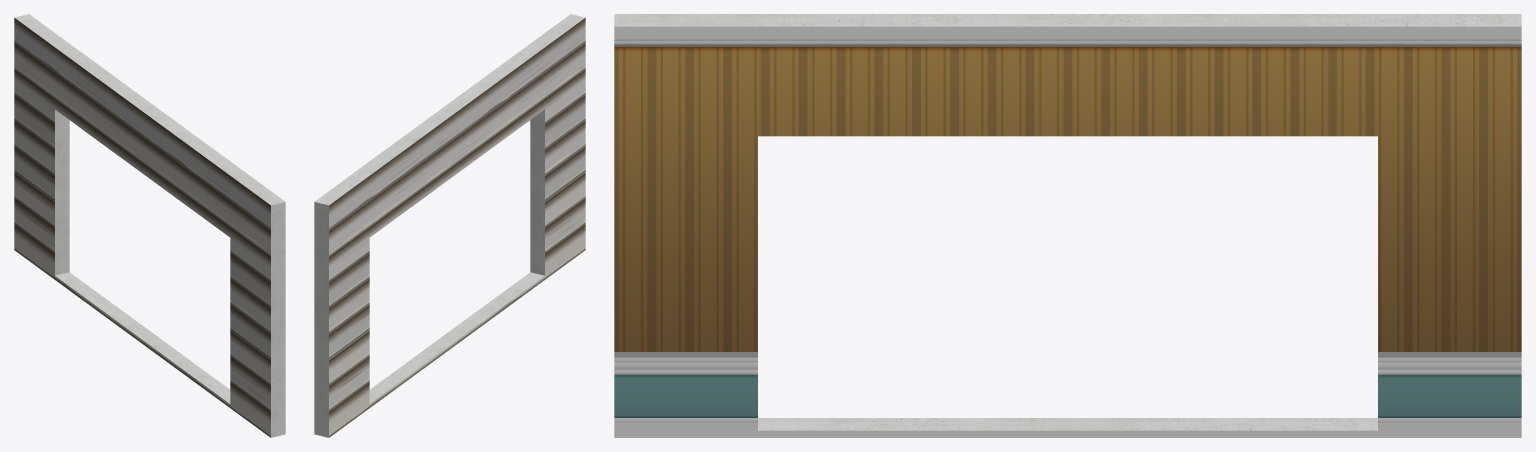
Rendered from wall01_6m_door_A.fbx.
The picture shows the model from 3 angles, left to right: view 1: azimuth 30°, elevation 25°; view 2: azimuth 150°, elevation 25°; view 3: azimuth 270°, elevation 25°; orthographic projection. The views are drawn at different scales.
Visible parts, largest first — view 1: wall01_6m_door_A; view 2: wall01_6m_door_A; view 3: wall01_6m_door_A.
Boxes of the visible parts, bbox=[...] form: wall01_6m_door_A: bbox=[14, 14, 285, 437]; wall01_6m_door_A: bbox=[314, 14, 585, 437]; wall01_6m_door_A: bbox=[614, 14, 1521, 437].
Size of the model in its own units: 20 by 300 by 600.
